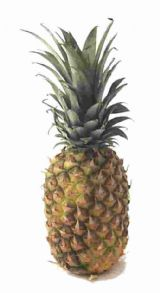pineapple: (18, 15, 134, 280)
